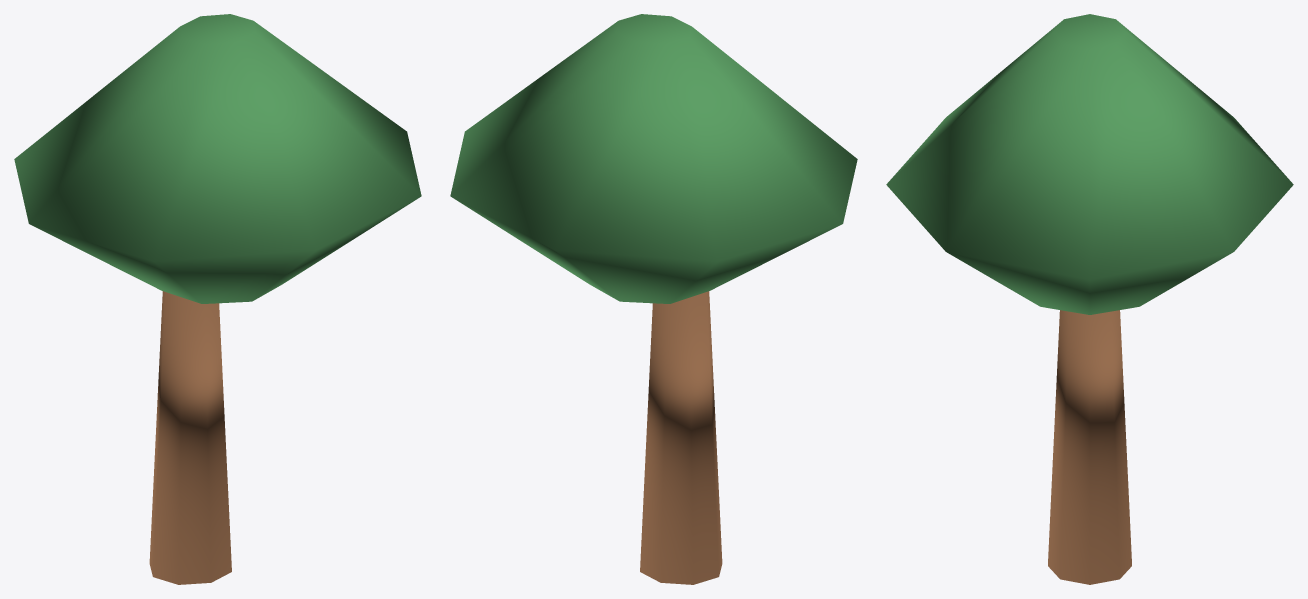
File: Tree.glb
The picture shows the model from 3 angles, left to right: view 1: azimuth 30°, elevation 25°; view 2: azimuth 150°, elevation 25°; view 3: azimuth 270°, elevation 25°; orthographic projection. The views are drawn at different scales.
Visible parts, largest first — view 1: Crown, Trunk; view 2: Crown, Trunk; view 3: Crown, Trunk.
Part boxes in pixels (x1,y1,x2,y2): Crown: (14,14,421,303); Trunk: (149,291,231,584); Crown: (450,14,857,303); Trunk: (640,291,722,584); Crown: (886,14,1293,314); Trunk: (1048,310,1131,584).
Size of the model in its own units: 3.2 by 4.3 by 2.9.
